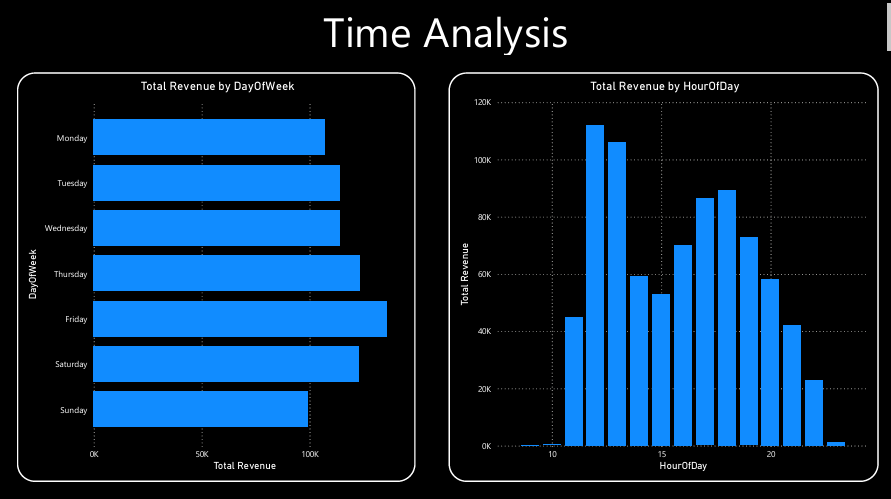

Layout of this report page (visuals, bound fields, positions):
{"tool":"powerbi","page":{"name":"Time Analysis","canvas":[1280,720],"ordinal":1},"visuals":[{"type":"clusteredColumnChart","fields":{"Category":["pizza_sales_clean.HourOfDay"],"Y":["pizza_sales_clean.Total Revenue"]},"box":[640,103.8,615,587.5],"z":0},{"type":"clusteredBarChart","fields":{"Y":["pizza_sales_clean.Total Revenue"],"Category":["pizza_sales_clean.DayOfWeek"]},"box":[22.5,103.8,570,587.5],"z":1000},{"type":"textbox","box":[0,0,1280,82.5],"z":2000}]}

Visuals, with their boxes in screenshot pixels (x1, y1, x2, y2), scaled from the page's 1280x720 canvas onto the 891x499 screenshot:
clusteredColumnChart - pizza_sales_clean.HourOfDay x pizza_sales_clean.Total Revenue: region(446, 72, 874, 479)
clusteredBarChart - pizza_sales_clean.Total Revenue x pizza_sales_clean.DayOfWeek: region(16, 72, 412, 479)
textbox: region(0, 0, 890, 57)
